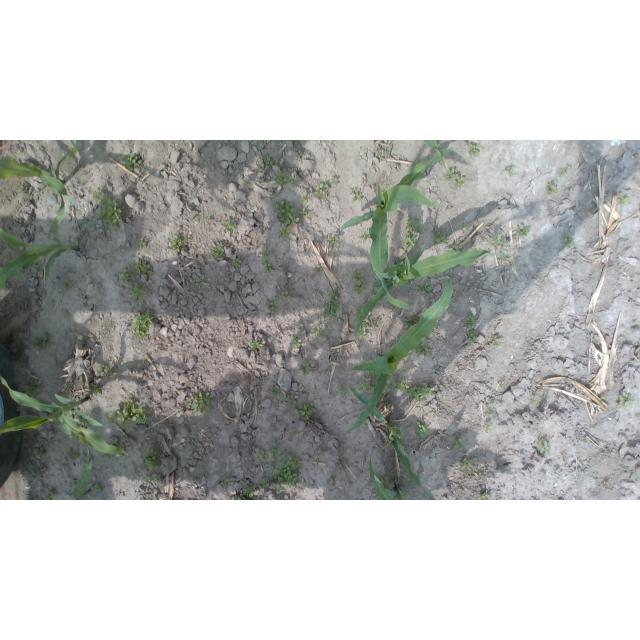Maize: (338, 148, 455, 313), (346, 279, 455, 436), (354, 248, 518, 335), (0, 374, 130, 457), (349, 386, 437, 500), (0, 189, 80, 289), (1, 145, 80, 212), (369, 457, 408, 500), (72, 451, 92, 500), (423, 140, 453, 172)
Weeds: (91, 188, 123, 232), (269, 444, 304, 484), (385, 378, 436, 405), (116, 399, 149, 428), (272, 198, 300, 226), (186, 392, 215, 417), (132, 309, 153, 340), (404, 219, 424, 251), (323, 288, 343, 319), (351, 268, 370, 297), (357, 318, 380, 340), (465, 313, 480, 346), (22, 380, 46, 400), (33, 333, 56, 353), (258, 244, 273, 273), (276, 169, 301, 186), (143, 448, 161, 471), (446, 167, 465, 188), (277, 223, 297, 242), (108, 435, 128, 453), (415, 336, 433, 356), (415, 421, 433, 440), (132, 260, 152, 277), (221, 216, 238, 236), (536, 432, 551, 454), (15, 179, 33, 197), (132, 283, 147, 304), (299, 403, 316, 421), (618, 392, 635, 410), (125, 152, 142, 170), (64, 444, 81, 461), (209, 241, 225, 259), (492, 233, 510, 248), (415, 281, 433, 296), (461, 459, 478, 474), (314, 183, 330, 198), (451, 435, 466, 451), (310, 323, 326, 338), (119, 268, 133, 285), (88, 380, 102, 397), (170, 235, 183, 253), (44, 486, 60, 500), (96, 363, 112, 377), (432, 231, 448, 245), (60, 278, 75, 292), (301, 359, 315, 374), (298, 189, 313, 203), (351, 187, 365, 201), (243, 483, 256, 498), (395, 473, 408, 488), (468, 142, 481, 157), (268, 299, 281, 314), (77, 219, 96, 229), (480, 421, 494, 434), (250, 339, 265, 351), (189, 276, 204, 288), (546, 180, 558, 195), (33, 449, 49, 460), (360, 378, 372, 392), (517, 224, 531, 236), (271, 483, 286, 494), (489, 335, 504, 346), (339, 384, 351, 397), (561, 237, 575, 248), (617, 192, 628, 206), (259, 451, 270, 464), (404, 317, 417, 328), (292, 337, 305, 348), (326, 235, 340, 245), (298, 207, 312, 217), (144, 473, 161, 481), (560, 165, 572, 176), (138, 236, 148, 249), (505, 164, 515, 177), (361, 229, 372, 240), (264, 156, 275, 167), (380, 475, 390, 487), (230, 256, 240, 268), (107, 412, 116, 425), (260, 479, 270, 490), (484, 405, 494, 416), (91, 484, 102, 493), (296, 149, 305, 160), (376, 148, 384, 160), (476, 494, 492, 500), (454, 240, 462, 252), (221, 479, 231, 488), (315, 264, 325, 273), (498, 381, 507, 390), (289, 428, 299, 436), (272, 387, 280, 397), (280, 290, 288, 300), (284, 395, 293, 403), (103, 453, 112, 460), (231, 496, 246, 500), (331, 176, 338, 184), (185, 236, 192, 244), (142, 356, 149, 364), (530, 397, 537, 405), (329, 476, 335, 485), (584, 438, 591, 445), (464, 221, 471, 228), (355, 307, 361, 315), (603, 482, 609, 489), (294, 140, 304, 144), (600, 395, 606, 401), (84, 444, 91, 449), (51, 432, 57, 437), (448, 205, 453, 210), (407, 280, 413, 284), (56, 391, 61, 395), (496, 496, 501, 500)
